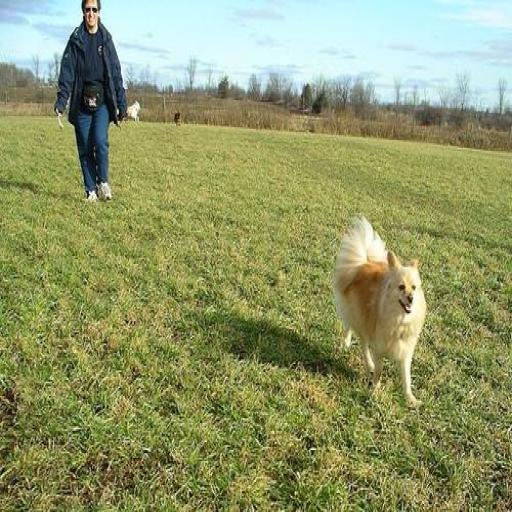dog_face: (384, 251, 420, 312)
